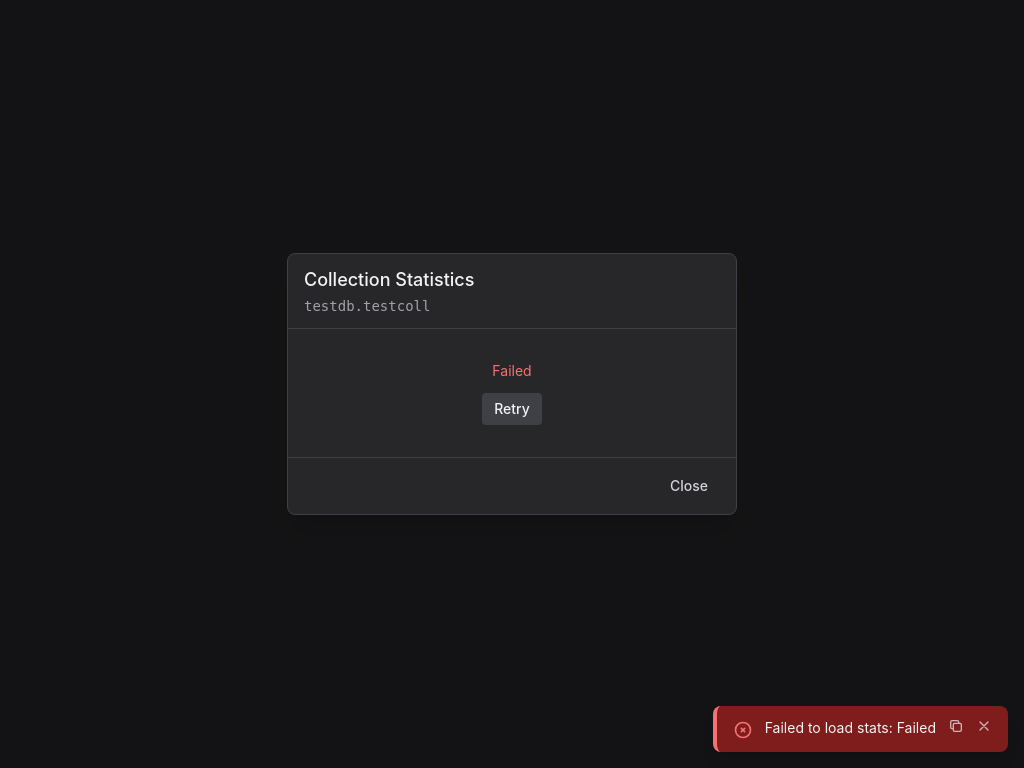
it: CollectionStatsModal › provides retry button on error
Click the button "Retry".
click(512, 409)  # box [482,393,542,425]
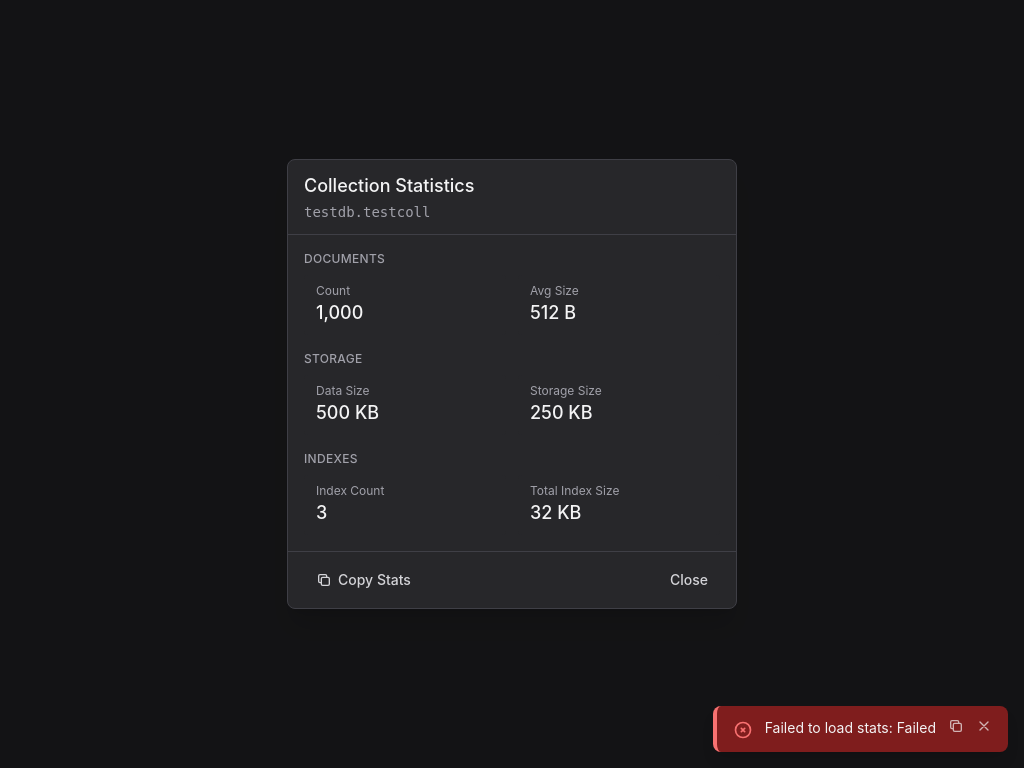
expect the text "1,000" is shown: met, box [316,302,363,323]
